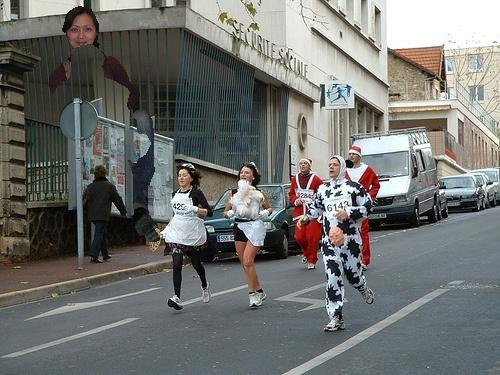tampered: (50, 7, 160, 242)
